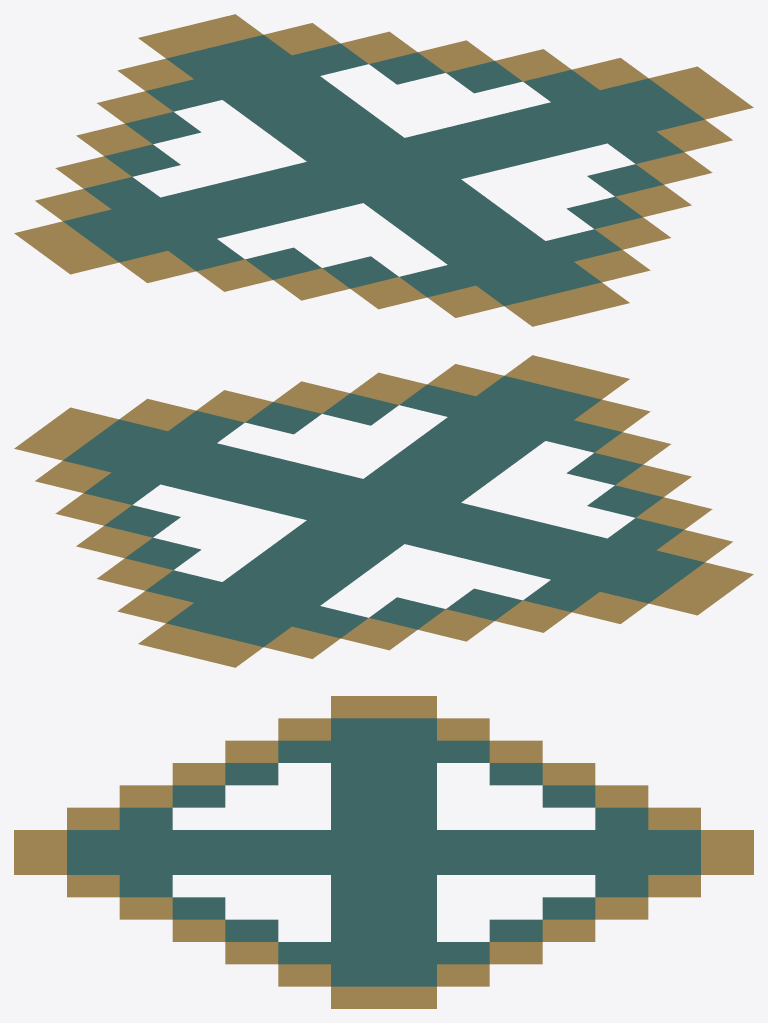
File: PT_EMBLEM_01.fbx
The picture shows the model from 3 angles, top to bottom: view 1: azimuth 30°, elevation 25°; view 2: azimuth 150°, elevation 25°; view 3: azimuth 270°, elevation 25°; orthographic projection. The views are drawn at different scales.
Parts seen in each view (by area): view 1: PT_EMBLEM_01.body; view 2: PT_EMBLEM_01.body; view 3: PT_EMBLEM_01.body.
Part boxes in pixels (x1,y1,x2,y2): PT_EMBLEM_01.body: (14, 14, 753, 326); PT_EMBLEM_01.body: (14, 355, 753, 667); PT_EMBLEM_01.body: (14, 696, 753, 1008).
Size of the model in its own units: 350 by 5.7e-05 by 350.
